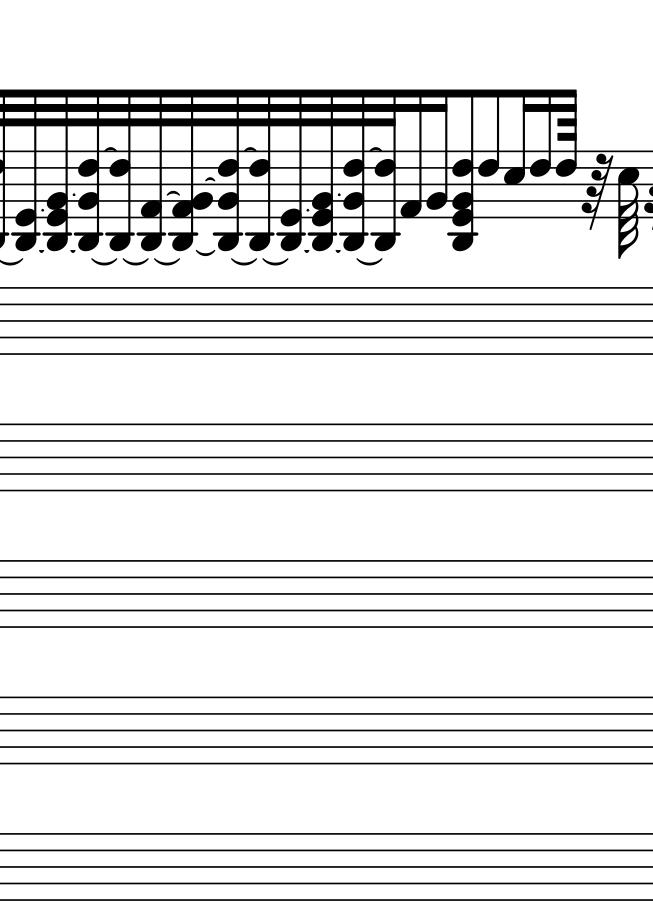16_1: (400, 88, 425, 220)
16_2: (425, 87, 449, 221)
16_5: (502, 89, 530, 219)
16_6: (529, 89, 553, 220)
32_-3_0: (12, 87, 40, 251), (277, 86, 305, 250)
32_-3_1: (136, 87, 164, 251)
32_-3_6: (108, 88, 136, 252), (245, 85, 273, 249), (371, 87, 399, 251)
64_5: (617, 149, 639, 259)
64_6: (555, 89, 577, 221)
8_6: (476, 88, 500, 220)
Rests64: (581, 151, 613, 228)
Slur: (152, 256, 182, 267), (121, 256, 150, 267), (230, 256, 257, 266), (356, 257, 383, 267), (262, 257, 288, 267), (91, 257, 117, 266), (194, 249, 217, 257), (1, 258, 24, 266)
